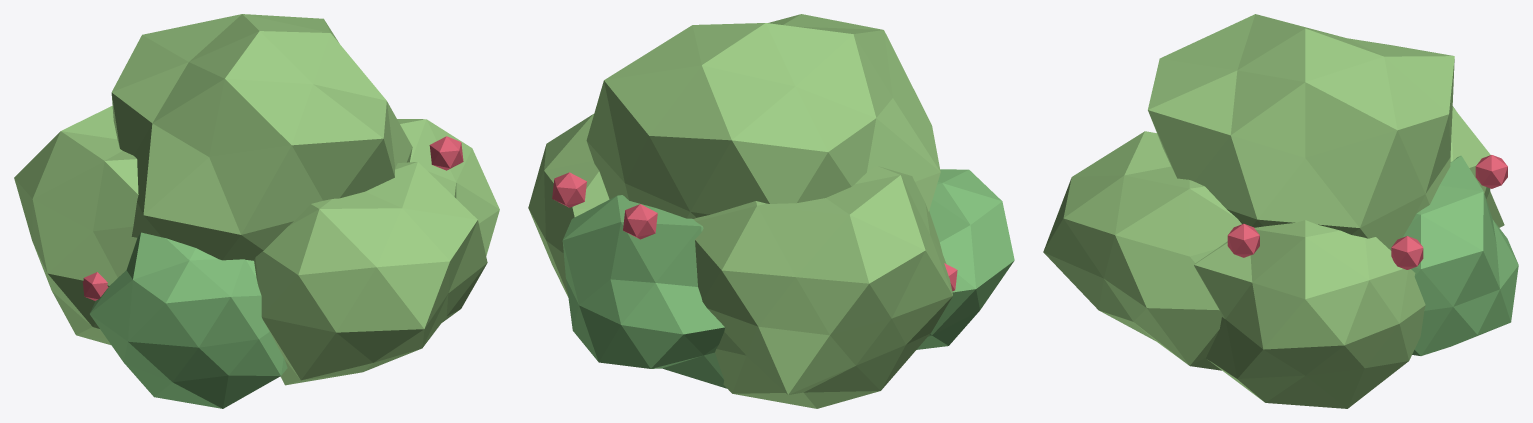
The model's file is bush.fbx.
The picture shows the model from 3 angles, left to right: view 1: azimuth 30°, elevation 25°; view 2: azimuth 150°, elevation 25°; view 3: azimuth 270°, elevation 25°; orthographic projection. The views are drawn at different scales.
Visible parts, largest first — view 1: bush; view 2: bush; view 3: bush.
Part boxes in pixels (x1,y1,x2,y2): bush: [14, 14, 499, 408]; bush: [528, 14, 1014, 408]; bush: [1043, 14, 1518, 408].
Size of the model in its own units: 1.77 by 1.33 by 1.76.
